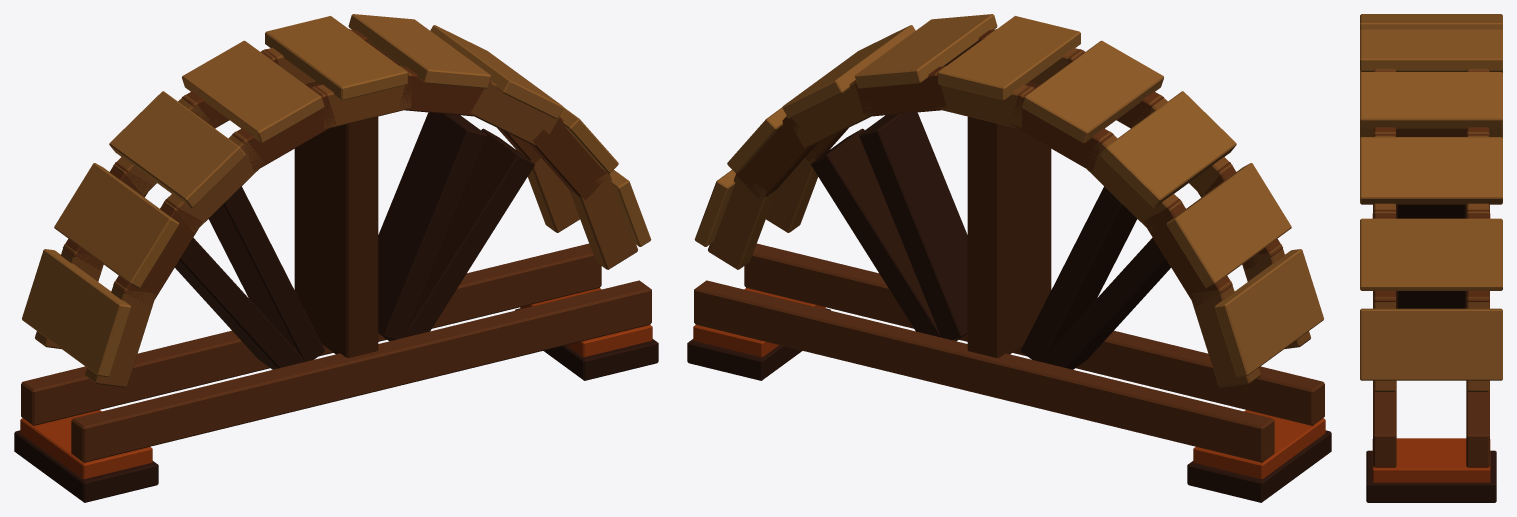
File: mod_wooden_arch_centering_2m.glb
The picture shows the model from 3 angles, left to right: view 1: azimuth 30°, elevation 25°; view 2: azimuth 150°, elevation 25°; view 3: azimuth 270°, elevation 25°; orthographic projection. The views are drawn at different scales.
Parts seen in each view (by area): view 1: Mod_Wooden_Arch_Centering_2m; view 2: Mod_Wooden_Arch_Centering_2m; view 3: Mod_Wooden_Arch_Centering_2m.
Part boxes in pixels (<box>): Mod_Wooden_Arch_Centering_2m: <box>14,14,658,502</box>; Mod_Wooden_Arch_Centering_2m: <box>687,14,1331,502</box>; Mod_Wooden_Arch_Centering_2m: <box>1360,14,1502,502</box>.
Size of the model in its own units: 1.98 by 1.17 by 0.46.
